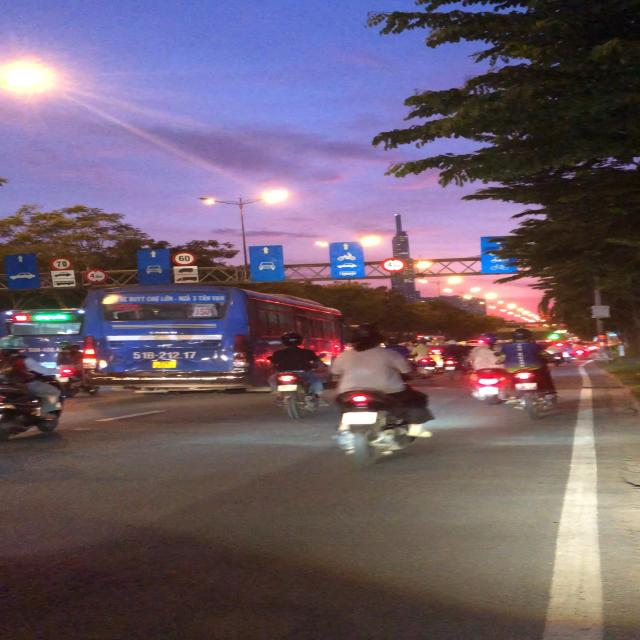Bien bao han che chieu cao: (377, 256, 407, 275), (79, 268, 112, 283)
Bien bao toc do toi da cho phep: (46, 255, 78, 271), (169, 251, 199, 266)
